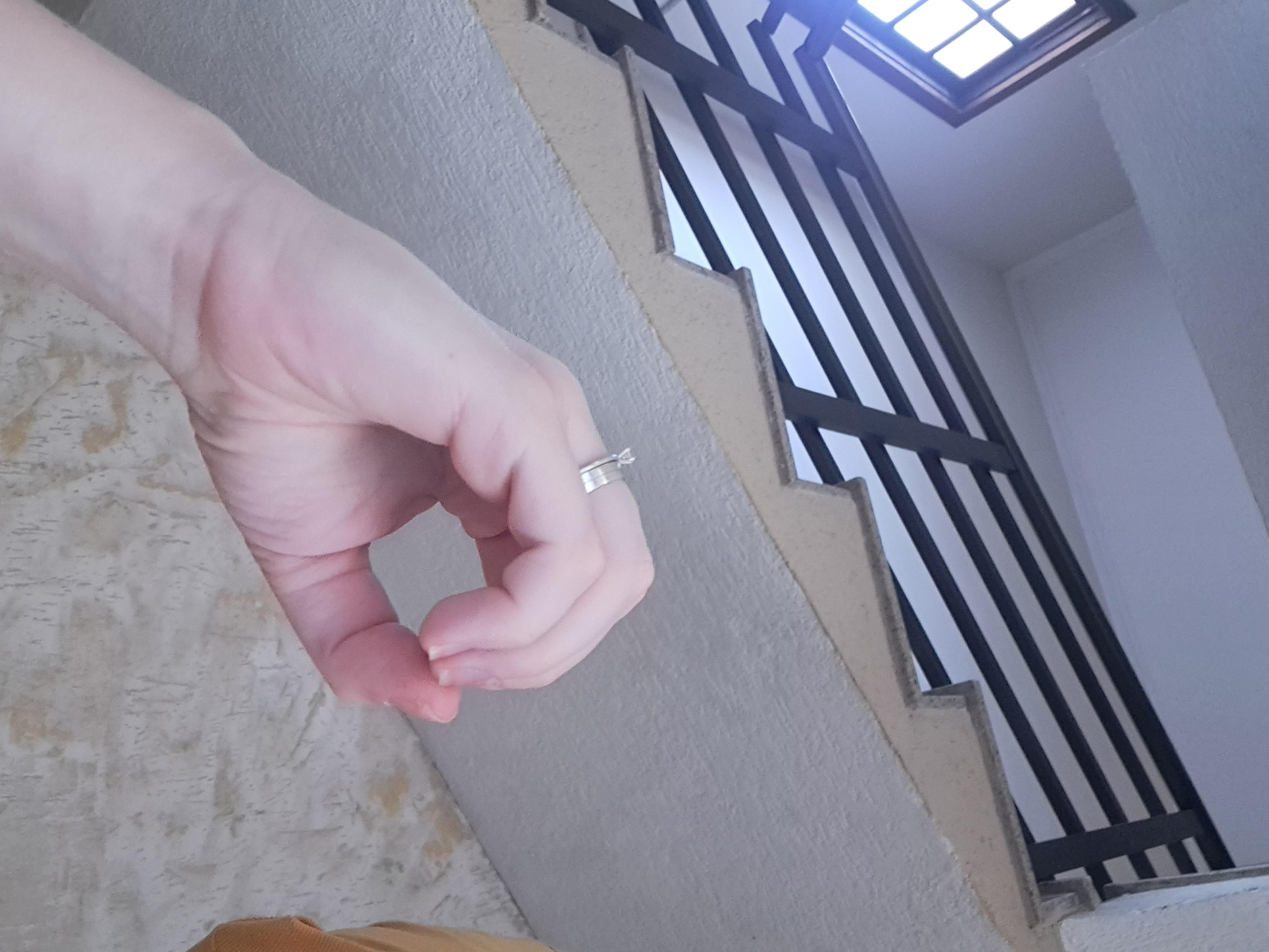O: (275, 438, 990, 822)
